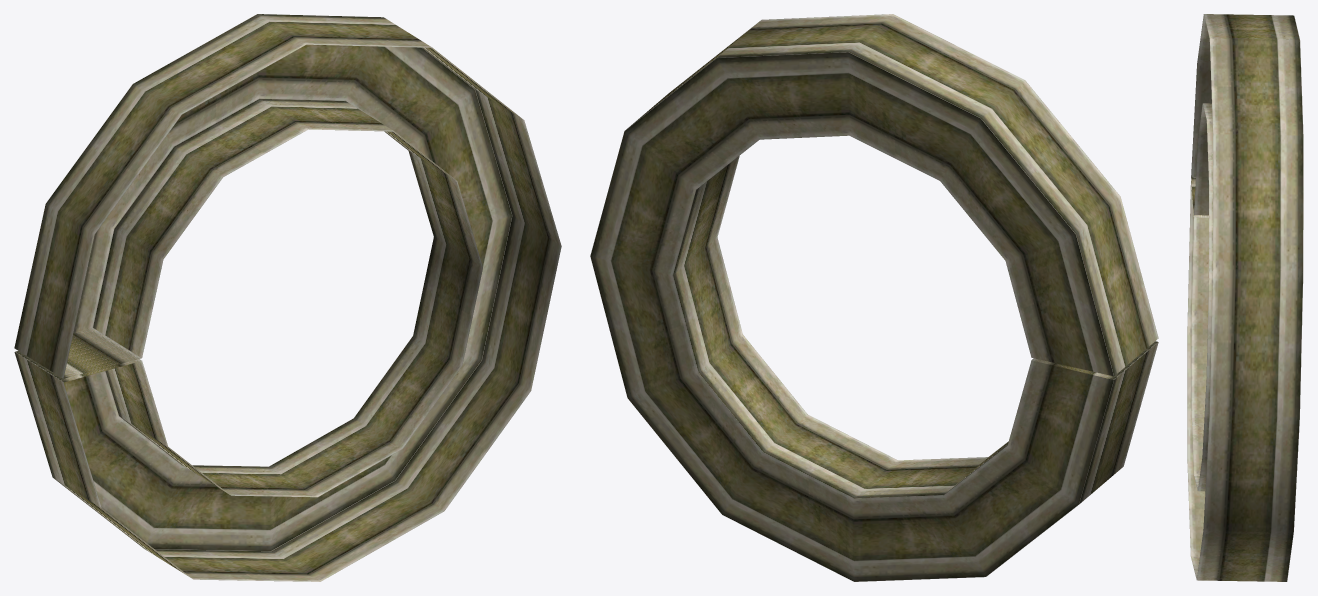
File: CH09_SMAUG_PLAYSURFACE_LAIR132.fbx
3 views of the same model, side by side, from view 1: azimuth 30°, elevation 25°; view 2: azimuth 150°, elevation 25°; view 3: azimuth 270°, elevation 25° (orthographic). The views are drawn at different scales.
Visible parts, largest first — view 1: CH09_SMAUG_PLAYSURFACE_LAIR132; view 2: CH09_SMAUG_PLAYSURFACE_LAIR132; view 3: CH09_SMAUG_PLAYSURFACE_LAIR132.
Part boxes in pixels (x1,y1,x2,y2): CH09_SMAUG_PLAYSURFACE_LAIR132: (14,14,561,581); CH09_SMAUG_PLAYSURFACE_LAIR132: (590,14,1158,581); CH09_SMAUG_PLAYSURFACE_LAIR132: (1187,14,1303,581).
Size of the model in its own units: 72104 by 72115 by 14640.
1 material, 1 textured.
